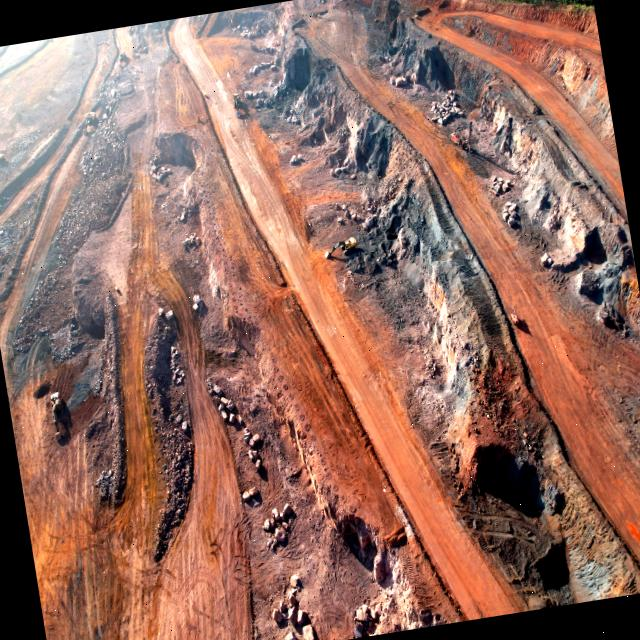Blast rig: (450, 122, 478, 154)
Excavator: (50, 392, 70, 440), (322, 237, 358, 259), (81, 110, 98, 134), (232, 94, 242, 117), (117, 49, 127, 66), (0, 149, 4, 163)
